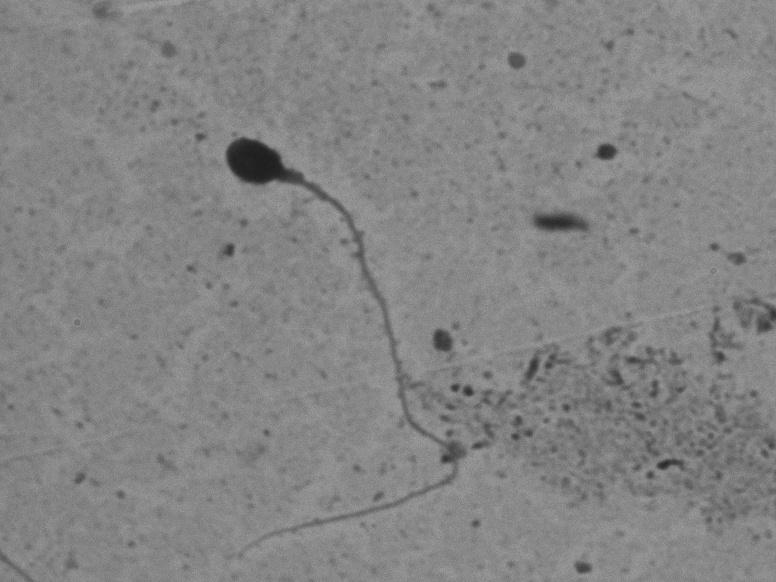Abnormal: (165, 109, 469, 561)
